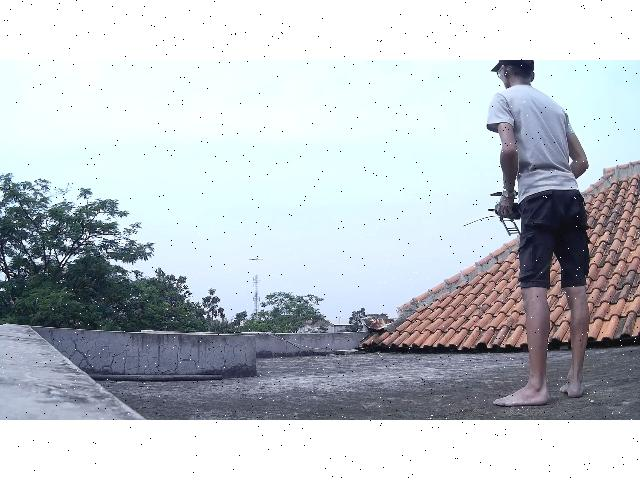Anti-Drone: (231, 250, 279, 266)
